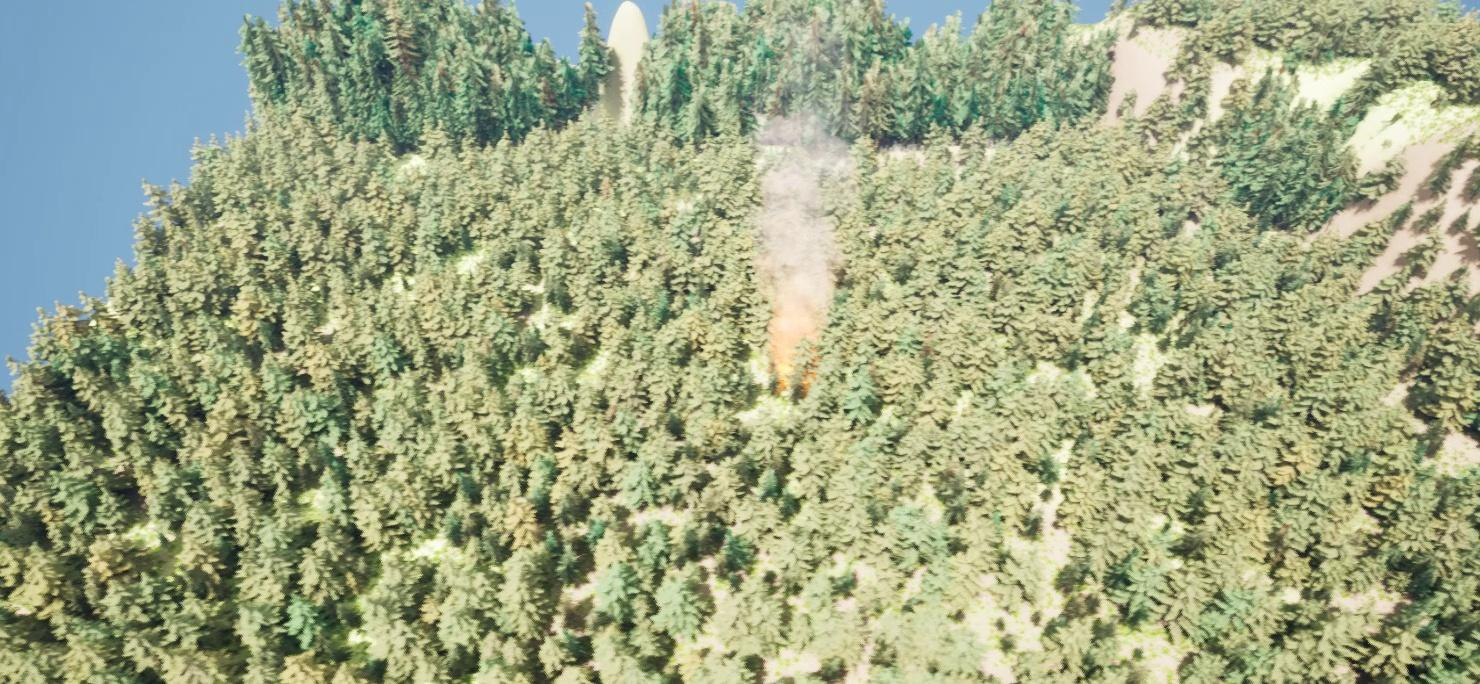smoke: (759, 91, 849, 393)
